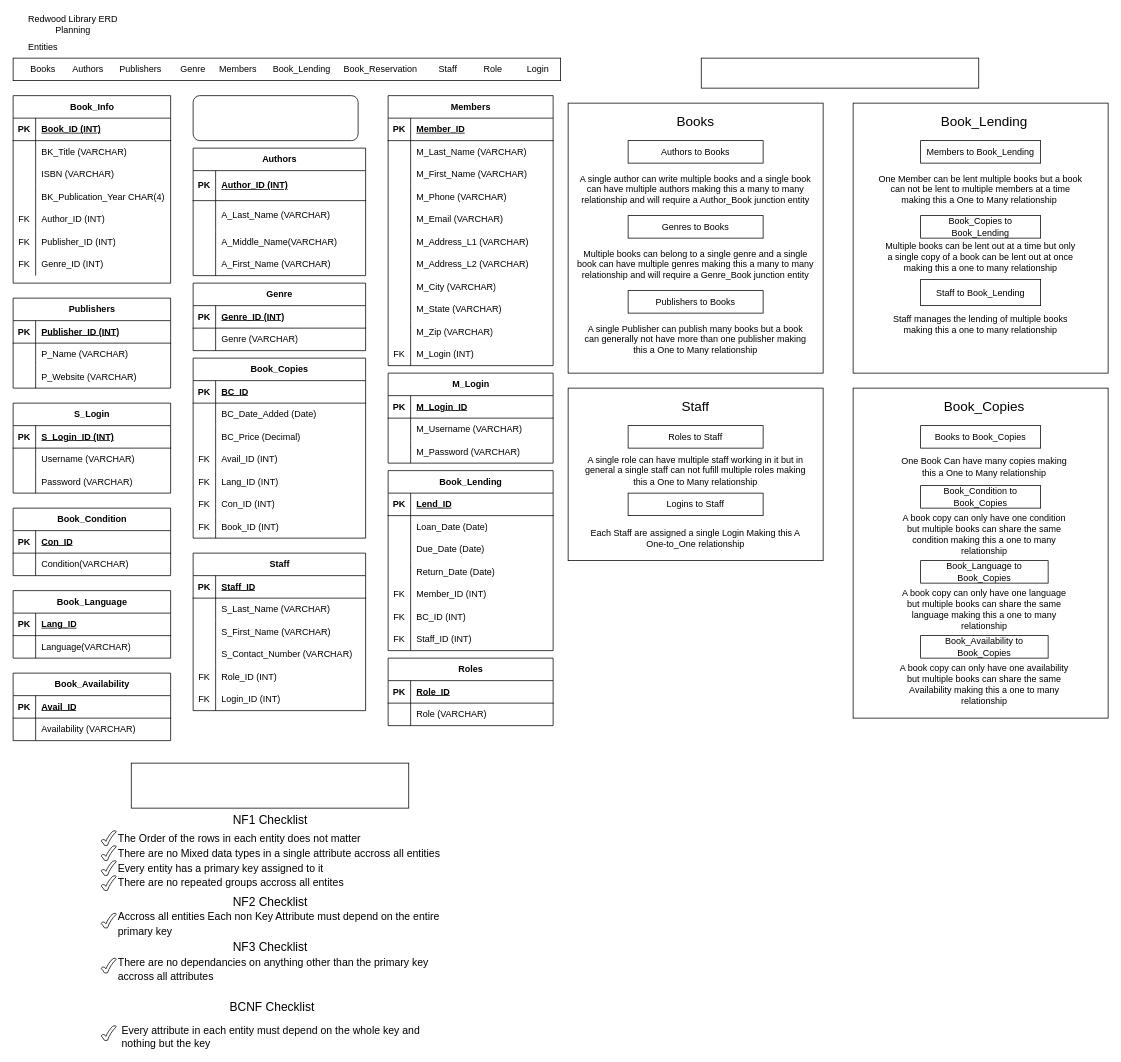
Image size: 1121x1062. Some labels were removed from this diagram. Here are the shapes that lost their labels. From the top down, the centre of each, then its label:
the point at 839,72: Relationships
the point at 275,118: Entities With Attributes
the point at 269,785: Normalization
